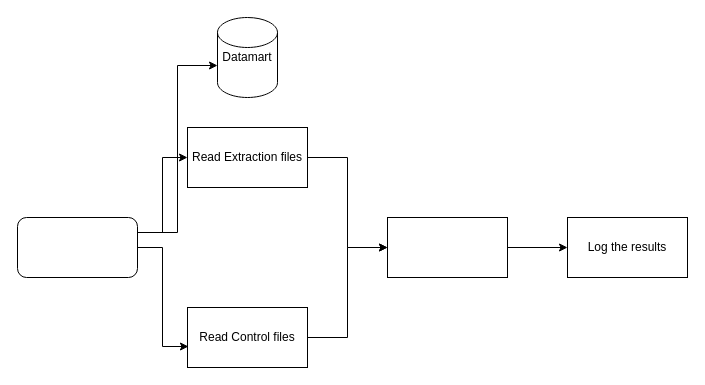
Image size: 705x385. Some labels were removed from this diagram. Each missing label, with the centre of its shape:
"Comparison" goes at point (77, 247).
"Tieout the data" goes at point (447, 247).
